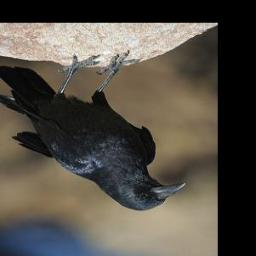Crow: (1, 50, 190, 212)
